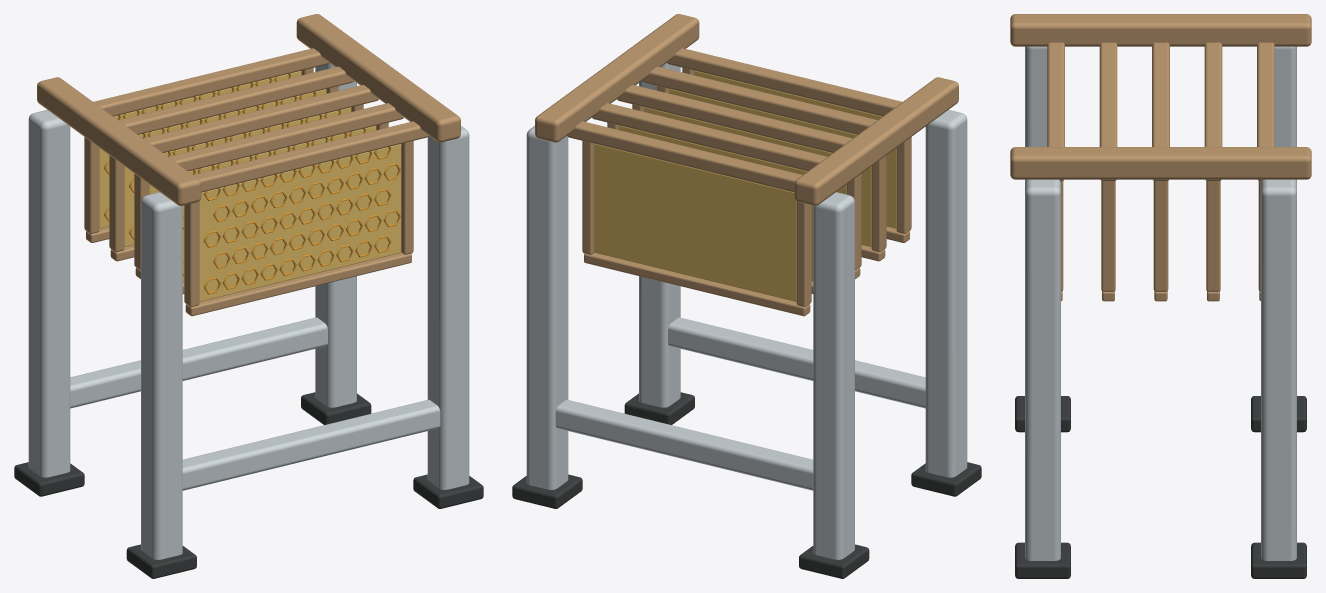
The model's file is beekeeping-and-honey-farm-frame-storage-rack-7b7ef5cb__30707.glb.
The picture shows the model from 3 angles, left to right: view 1: azimuth 30°, elevation 25°; view 2: azimuth 150°, elevation 25°; view 3: azimuth 270°, elevation 25°; orthographic projection. The views are drawn at different scales.
Visible parts, largest first — view 1: frame-storage-rack; view 2: frame-storage-rack; view 3: frame-storage-rack.
Part boxes in pixels (bbox=[...]): frame-storage-rack: bbox=[14, 14, 483, 578]; frame-storage-rack: bbox=[512, 14, 981, 578]; frame-storage-rack: bbox=[1010, 14, 1311, 578].
Bounding box in the file's own units: 0.615 × 0.69 × 0.46.
